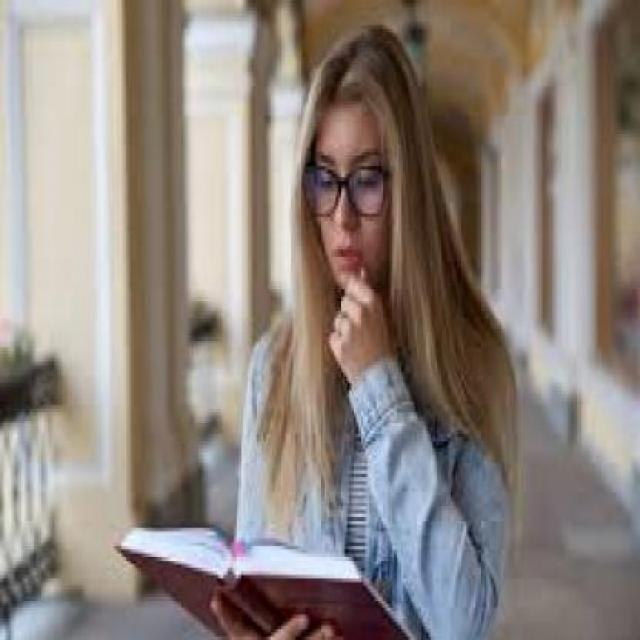mask: (299, 154, 390, 220)
